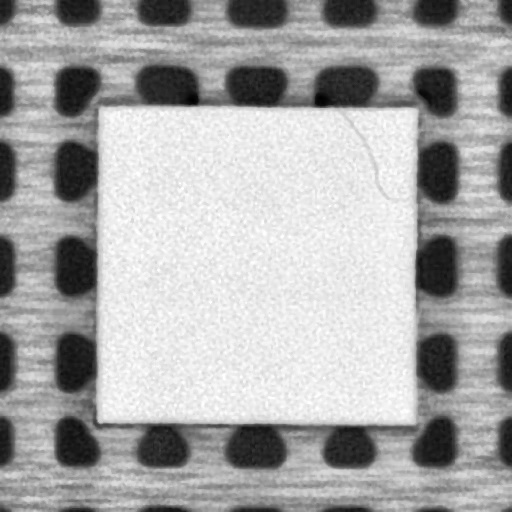DIE_CRACK: (339, 110, 390, 202)
